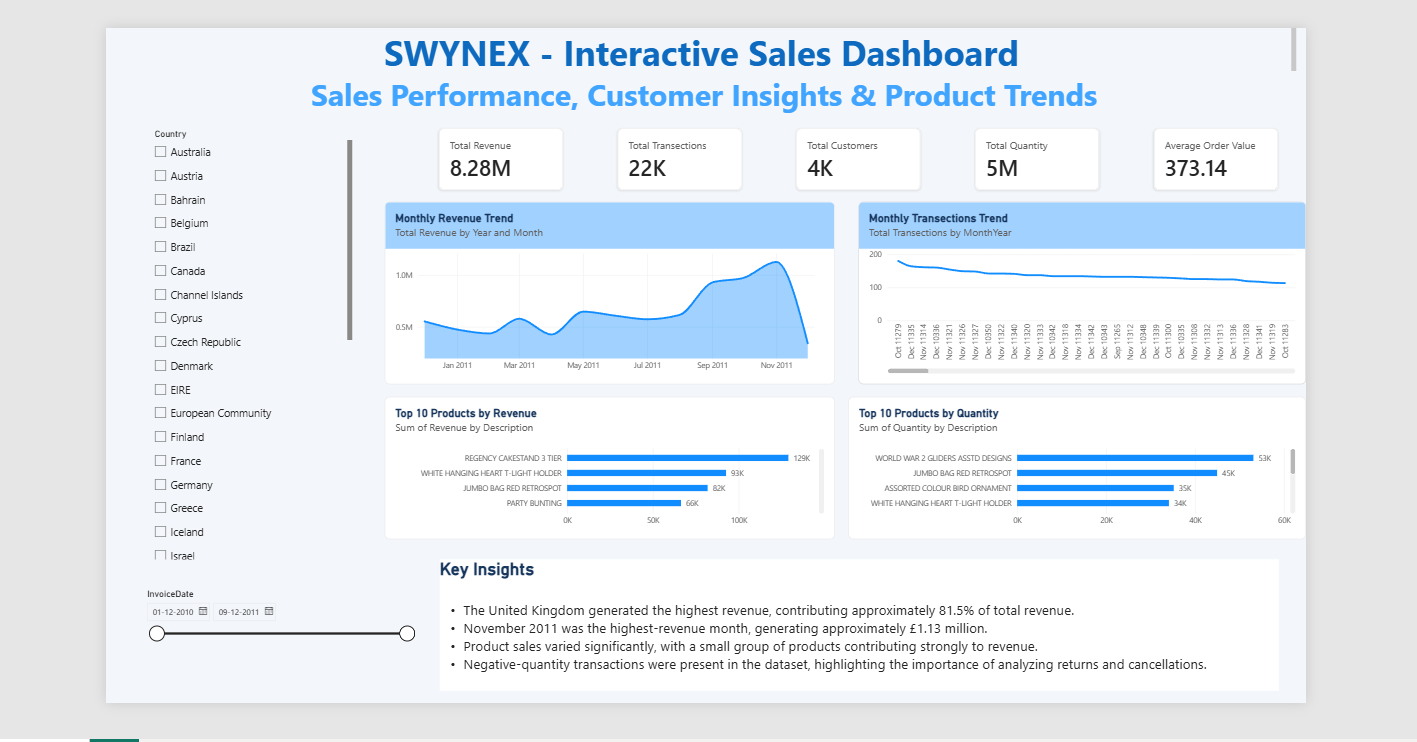

What the dashboard file says about the page in this screenshot:
{"tool":"powerbi","page":{"name":"Page 1","canvas":[1920,1080],"ordinal":0},"visuals":[{"type":"textbox","box":[10,0,1894,72],"z":0},{"type":"textbox","box":[10,72,1894,68],"z":1000},{"type":"cardVisual","fields":{"Data":["cleaned_dataset.Total Revenue"]},"box":[532.8,159.2,200,100],"z":2000},{"type":"cardVisual","fields":{"Data":["cleaned_dataset.Total Transections"]},"box":[818.8,159.2,200,100],"z":3000},{"type":"cardVisual","fields":{"Data":["cleaned_dataset.Total Customer"]},"box":[1104.8,159.2,200,100],"z":4000},{"type":"cardVisual","fields":{"Data":["cleaned_dataset.Total Quantity"]},"box":[1390.8,159.2,200,100],"z":5000},{"type":"stackedAreaChart","title":"Monthly Revenue Trend","fields":{"Category":["cleaned_dataset.InvoiceDate.Variation.Date Hierarchy.Year","cleaned_dataset.InvoiceDate.Variation.Date Hierarchy.Month"],"Y":["cleaned_dataset.Total Revenue"]},"box":[446,278,720,292],"z":6000},{"type":"lineChart","title":"Monthly Transections Trend","fields":{"Y":["cleaned_dataset.Total Transections"],"Category":["cleaned_dataset.MonthYear"]},"box":[1204,278,716,292],"z":7000},{"type":"barChart","title":"Top 10 Products by Revenue","fields":{"Category":["cleaned_dataset.Description"],"Y":["Sum(cleaned_dataset.Revenue)"]},"box":[446,590,720,228],"z":8000},{"type":"cardVisual","fields":{"Data":["cleaned_dataset.Average Order Value"]},"box":[1676.8,159.2,200,100],"z":9000},{"type":"clusteredBarChart","title":"Top 10 Products by Quantity","fields":{"Category":["cleaned_dataset.Description"],"Y":["Sum(cleaned_dataset.Quantity)"]},"box":[1188,590,732,228],"z":10000},{"type":"textbox","title":"Key Insights","box":[534,850,1342,210],"z":11000},{"type":"slicer","fields":{"Values":["cleaned_dataset.Country"]},"box":[70,160,324,690],"z":12000},{"type":"slicer","fields":{"Values":["cleaned_dataset.InvoiceDate"]},"box":[58,896,440,164],"z":13000}]}

Visuals, with their boxes on the page's 1920x1080 design canvas (x1, y1, x2, y2). These are canvas units, not pixel positions in the 1417x742 screenshot, which may show the page scaled, cropped or inside an application window:
textbox: box=[10, 0, 1904, 72]
textbox: box=[10, 72, 1904, 140]
cardVisual - cleaned_dataset.Total Revenue: box=[533, 159, 733, 259]
cardVisual - cleaned_dataset.Total Transections: box=[819, 159, 1019, 259]
cardVisual - cleaned_dataset.Total Customer: box=[1105, 159, 1305, 259]
cardVisual - cleaned_dataset.Total Quantity: box=[1391, 159, 1591, 259]
"Monthly Revenue Trend" stackedAreaChart: box=[446, 278, 1166, 570]
"Monthly Transections Trend" lineChart: box=[1204, 278, 1920, 570]
"Top 10 Products by Revenue" barChart: box=[446, 590, 1166, 818]
cardVisual - cleaned_dataset.Average Order Value: box=[1677, 159, 1877, 259]
"Top 10 Products by Quantity" clusteredBarChart: box=[1188, 590, 1920, 818]
"Key Insights" textbox: box=[534, 850, 1876, 1060]
slicer - cleaned_dataset.Country: box=[70, 160, 394, 850]
slicer - cleaned_dataset.InvoiceDate: box=[58, 896, 498, 1060]
